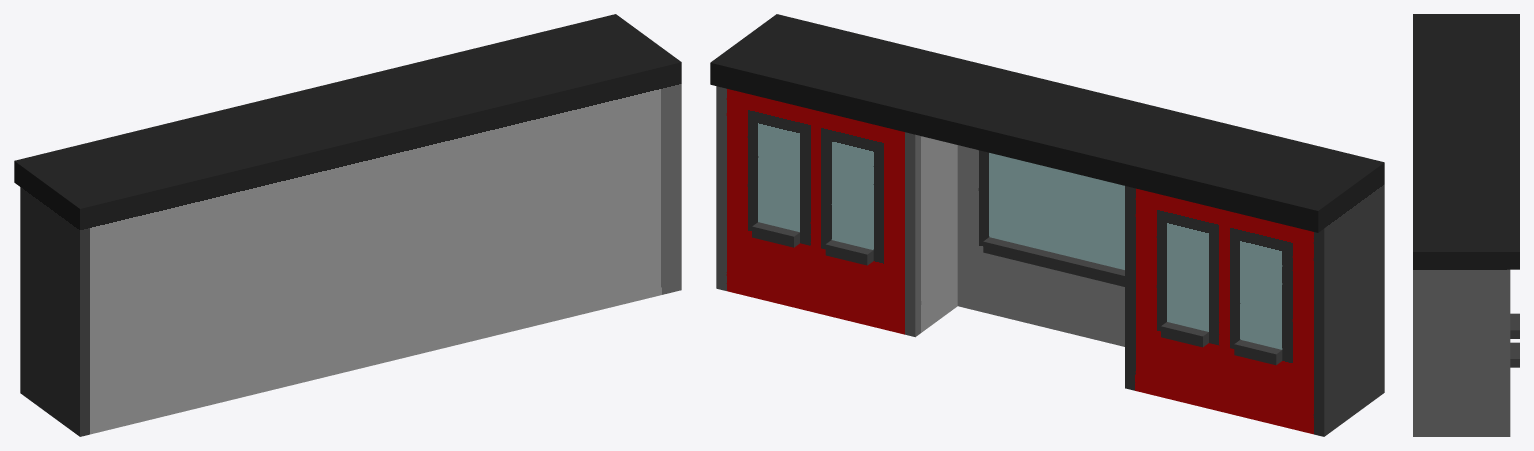
The model's file is obj_floor2a.dae.
3 views of the same model, side by side, from view 1: azimuth 30°, elevation 25°; view 2: azimuth 150°, elevation 25°; view 3: azimuth 270°, elevation 25° (orthographic). The views are drawn at different scales.
Visible parts, largest first — view 1: obj_floor2a; view 2: obj_floor2a; view 3: obj_floor2a.
Part boxes in pixels (x1,y1,x2,y2): obj_floor2a: [14, 14, 681, 436]; obj_floor2a: [710, 14, 1384, 436]; obj_floor2a: [1413, 14, 1519, 436].
Bounding box in the file's own units: 5.8 × 1.1 × 2.1.
Materials: 1 (1 with a texture image).
